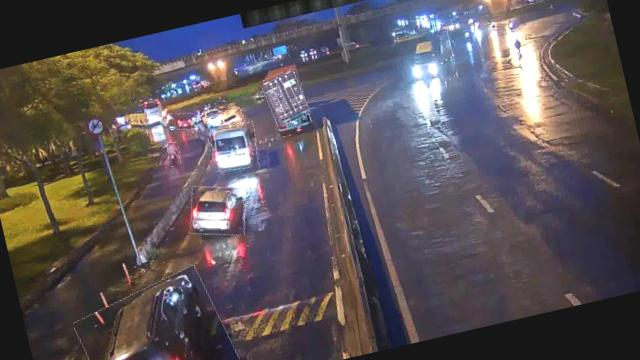Bike: (166, 141, 183, 167)
Bus: (208, 118, 262, 174)
Car: (72, 267, 240, 360), (185, 178, 252, 243), (210, 107, 247, 135), (166, 110, 196, 134)
Truck: (260, 69, 309, 127), (410, 32, 454, 74)
